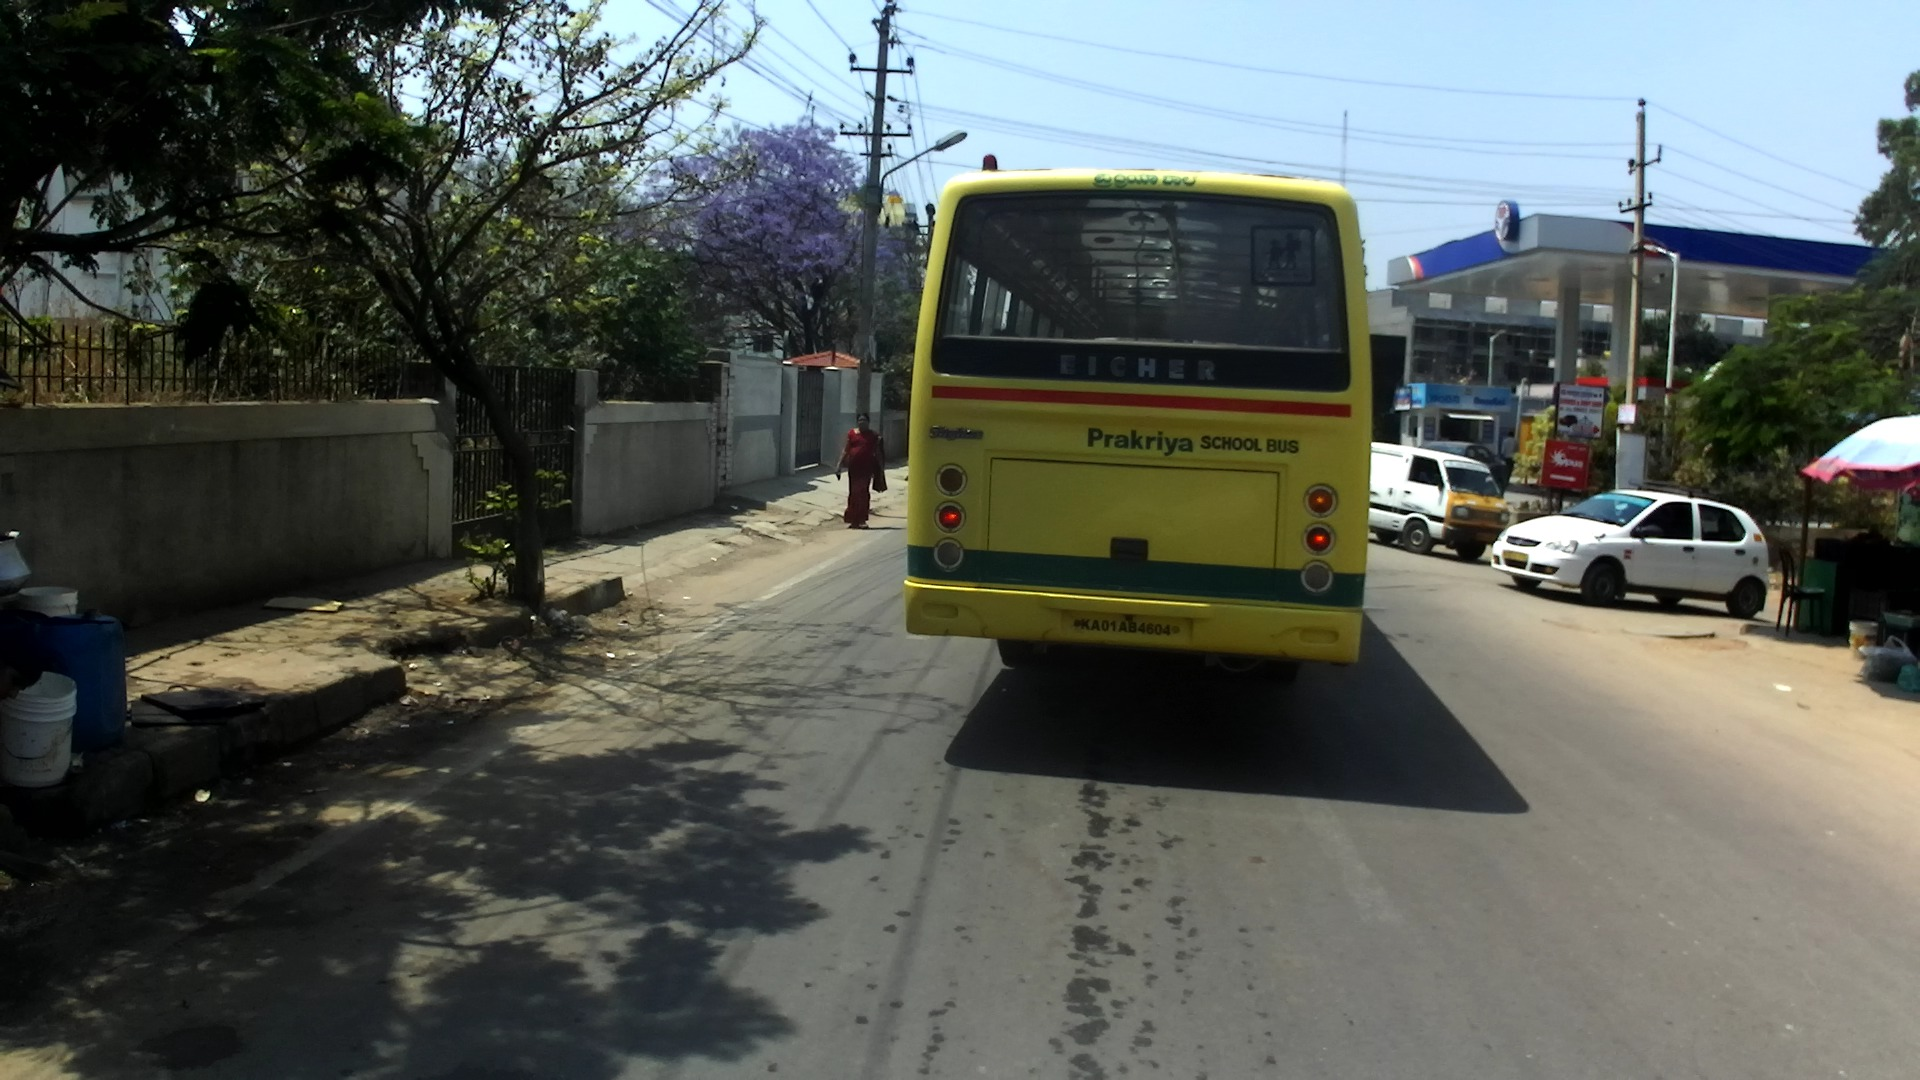bus: (902, 155, 1380, 686)
car: (1490, 478, 1767, 619), (1368, 441, 1514, 560), (1420, 441, 1510, 494)
person: (834, 411, 887, 530), (4, 622, 50, 704), (1501, 430, 1515, 486)
